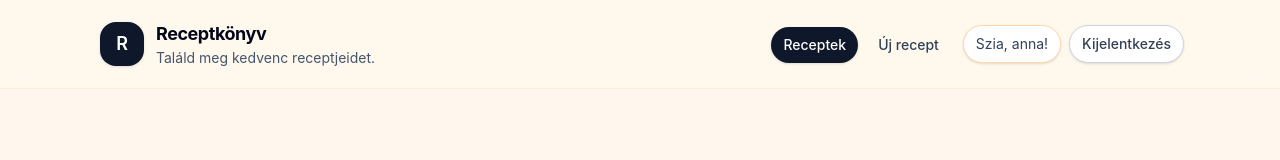
Test: Navbar › shows an alert when logout fails and does not navigate away
Click the button "Kijelentkezés" at x=1127, y=44, box [1069,25,1184,63]
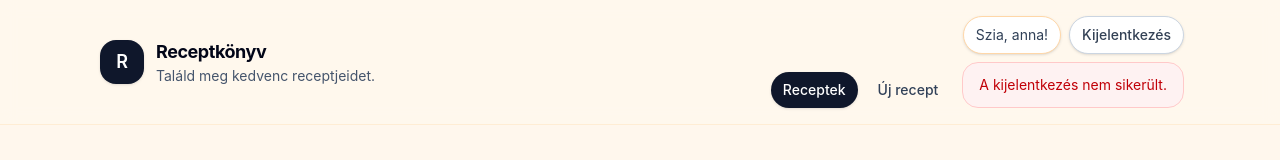
Expected: the button "Kijelentkezés" is enabled, [1069,16,1184,54]
Now the message reads "A kijelentkezés nem sikerült.", box [979,76,1167,93]
